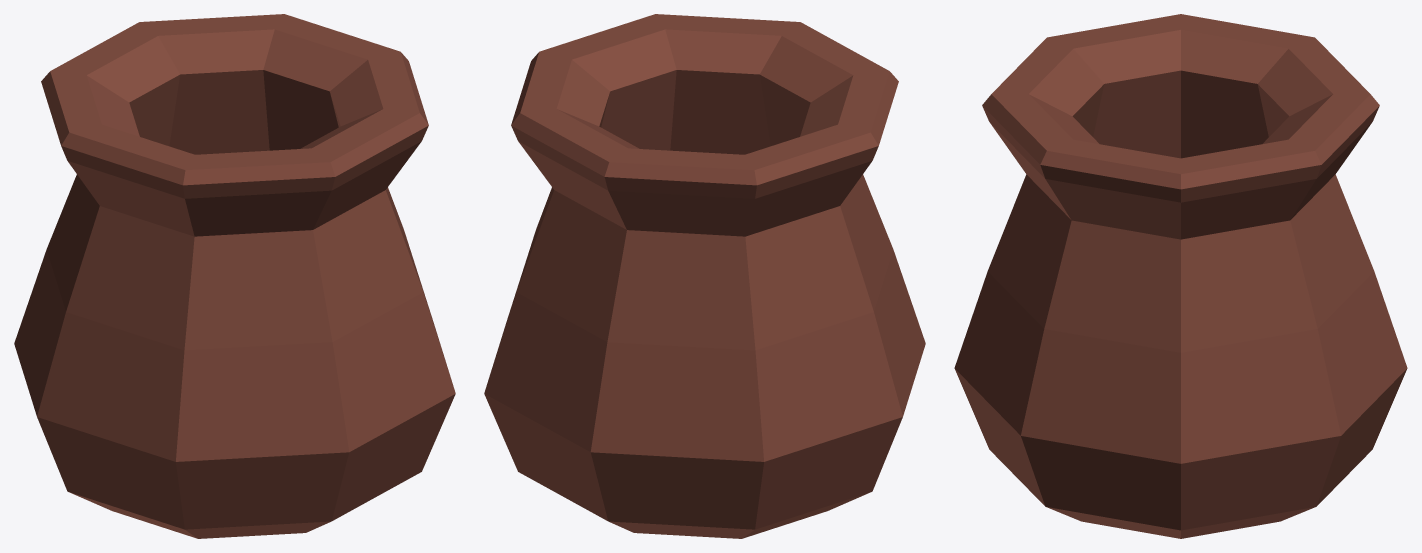
The model's file is Ceramic.fbx.
3 views of the same model, side by side, from view 1: azimuth 30°, elevation 25°; view 2: azimuth 150°, elevation 25°; view 3: azimuth 270°, elevation 25° (orthographic).
Visible parts, largest first — view 1: Ceramic; view 2: Ceramic; view 3: Ceramic.
Part boxes in pixels (x1,y1,x2,y2): Ceramic: [14, 14, 455, 538]; Ceramic: [484, 14, 925, 538]; Ceramic: [954, 14, 1407, 538].
Size of the model in its own units: 46.78 by 43.91 by 46.78.
